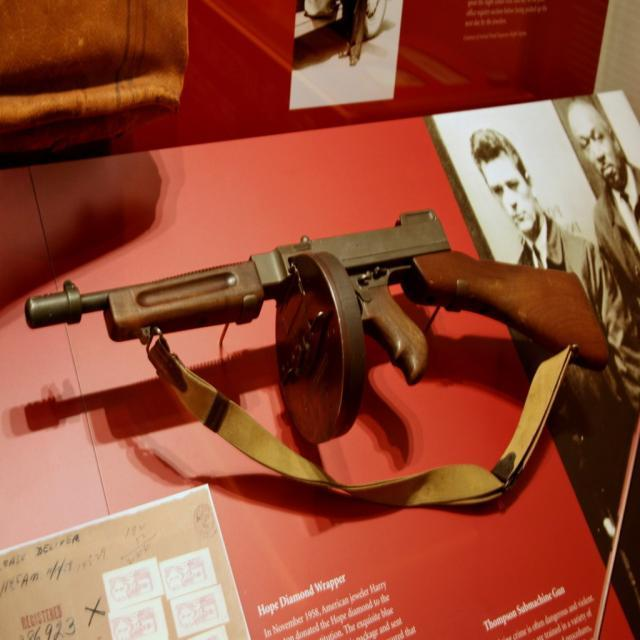Gun: (26, 211, 611, 446)
